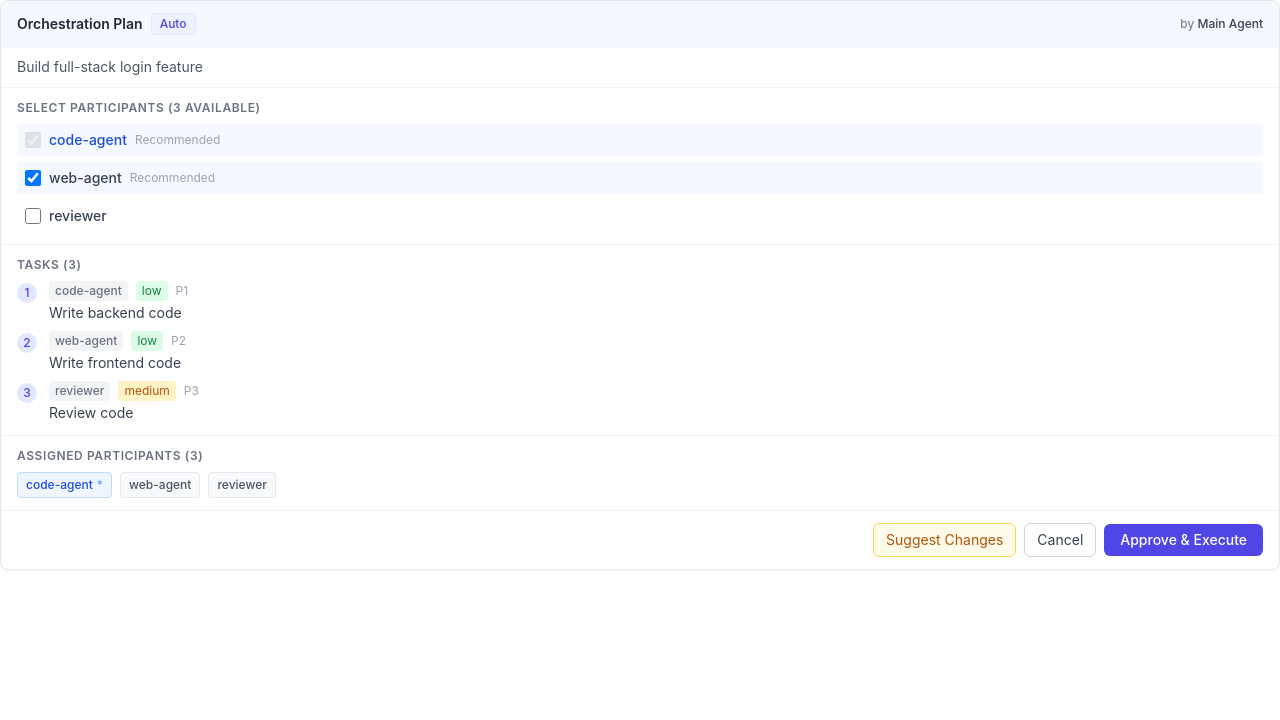
Test: MainAgentPlanCard › shows warning text when selection differs from defaults
# Uncheck optional web-agent
Click the checkbox labelled "web-agent Recommended": coordinates (33, 178) 25,170 -> 41,186
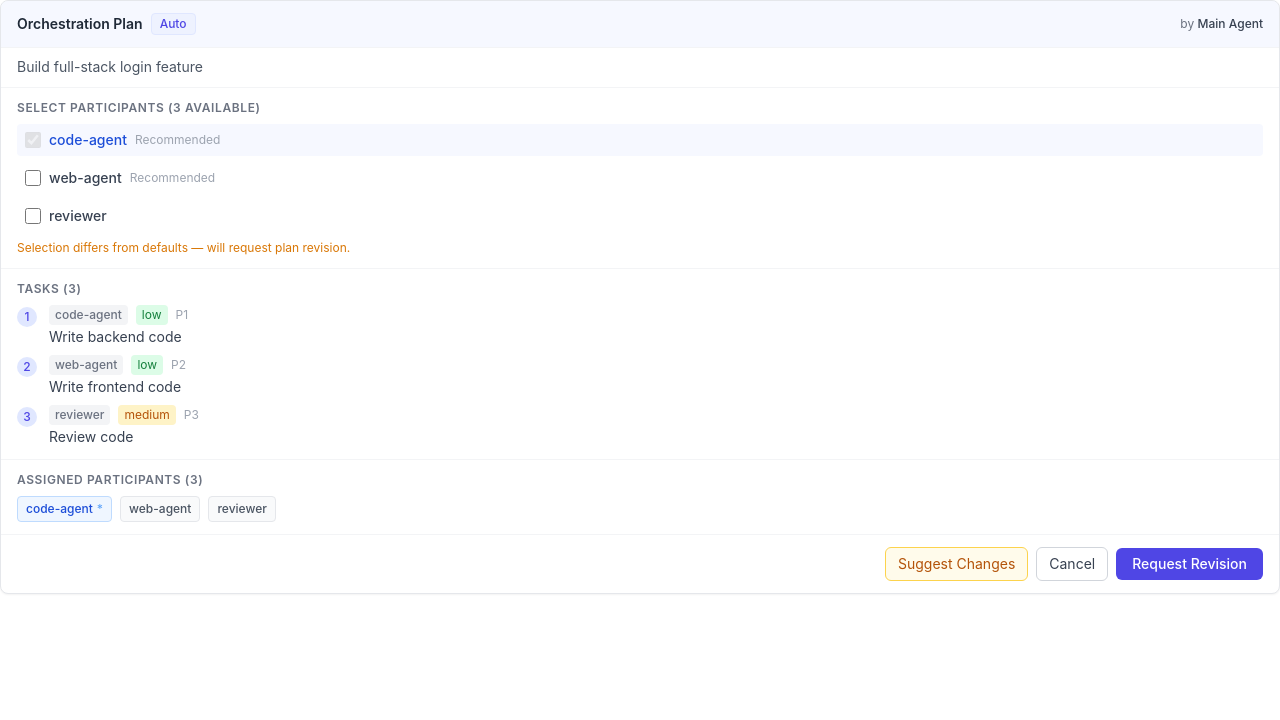
Check: the text "Selection differs from defaults" is shown, box 17,240 -> 350,255
